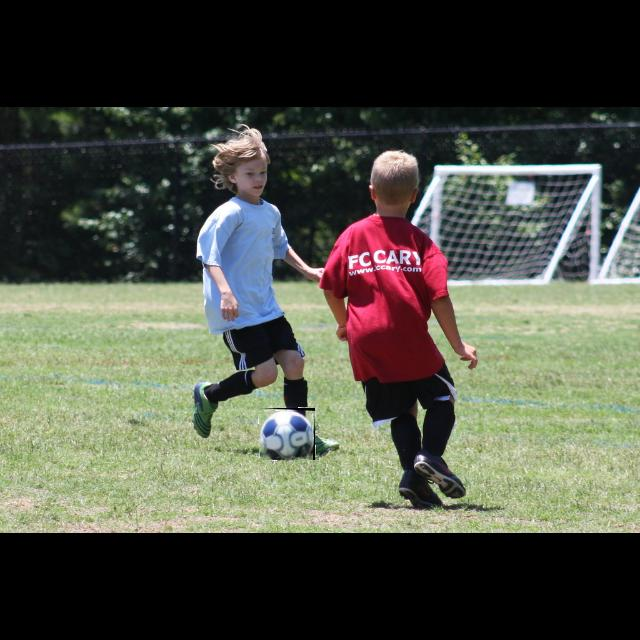Football: (259, 408, 315, 460)
